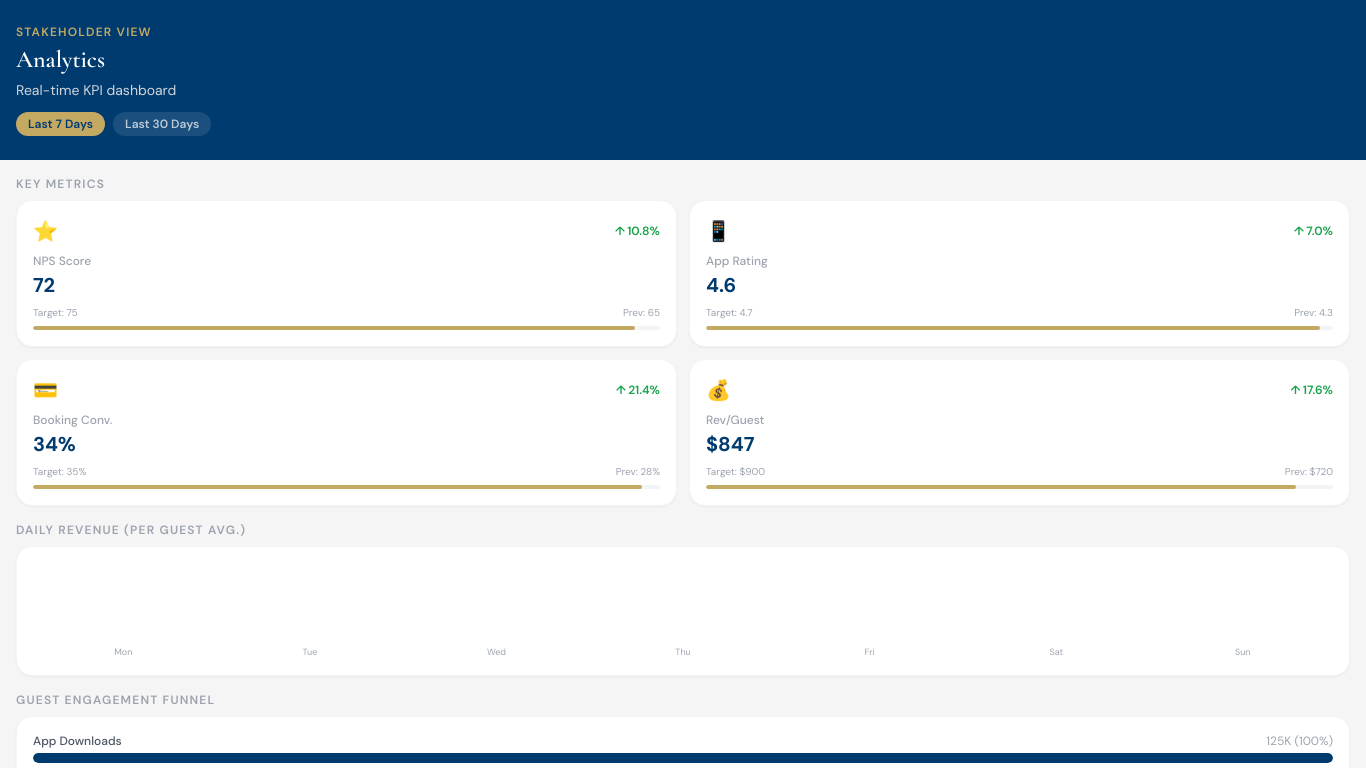
Test: AnalyticsPage › shows 30d KPI values after toggling to Last 30 Days
The image size is (1366, 768).
Click the button "Last 30 Days": (162, 124) x1=113 y1=112 x2=211 y2=136
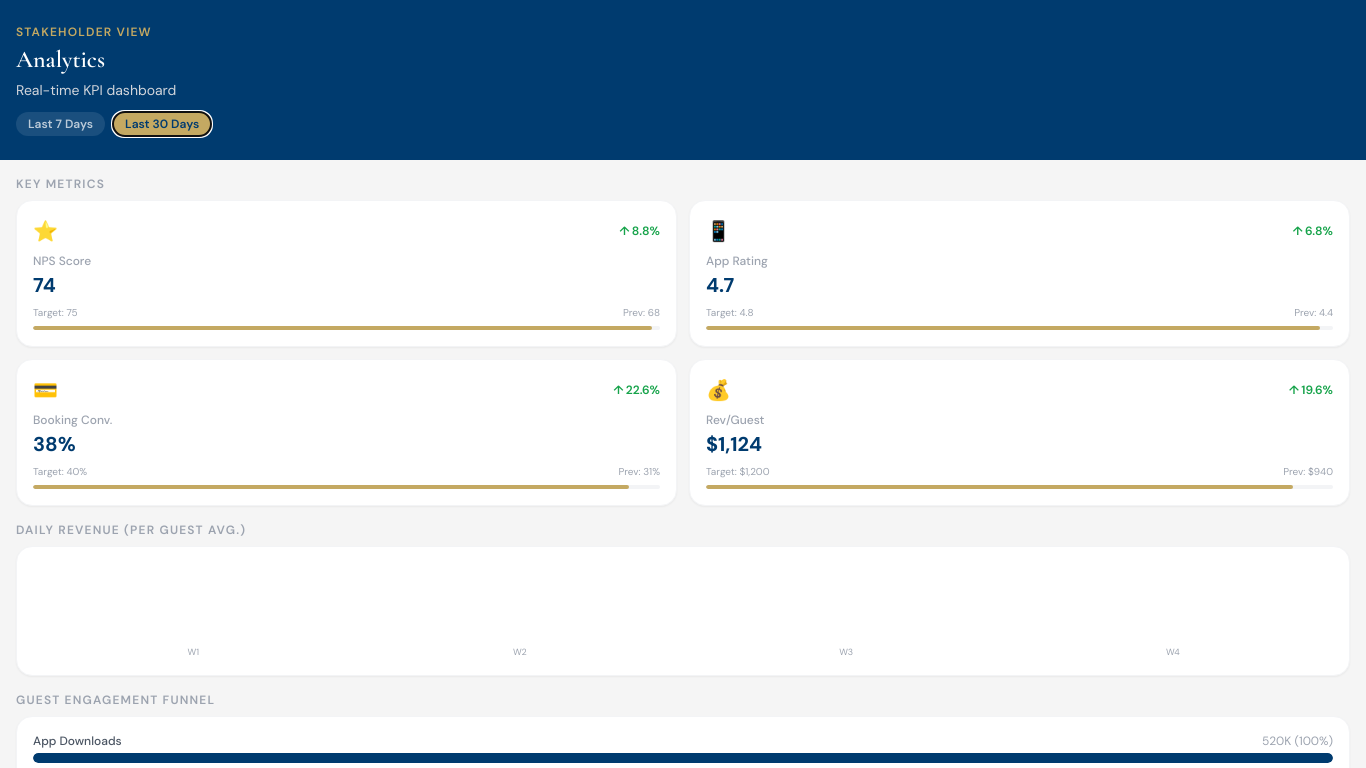
Now the text "74" is shown, box x1=33 y1=272 x2=56 y2=298
Now the text "4.7" is shown, box x1=706 y1=272 x2=734 y2=298
Now the text "38%" is shown, box x1=33 y1=431 x2=76 y2=457
